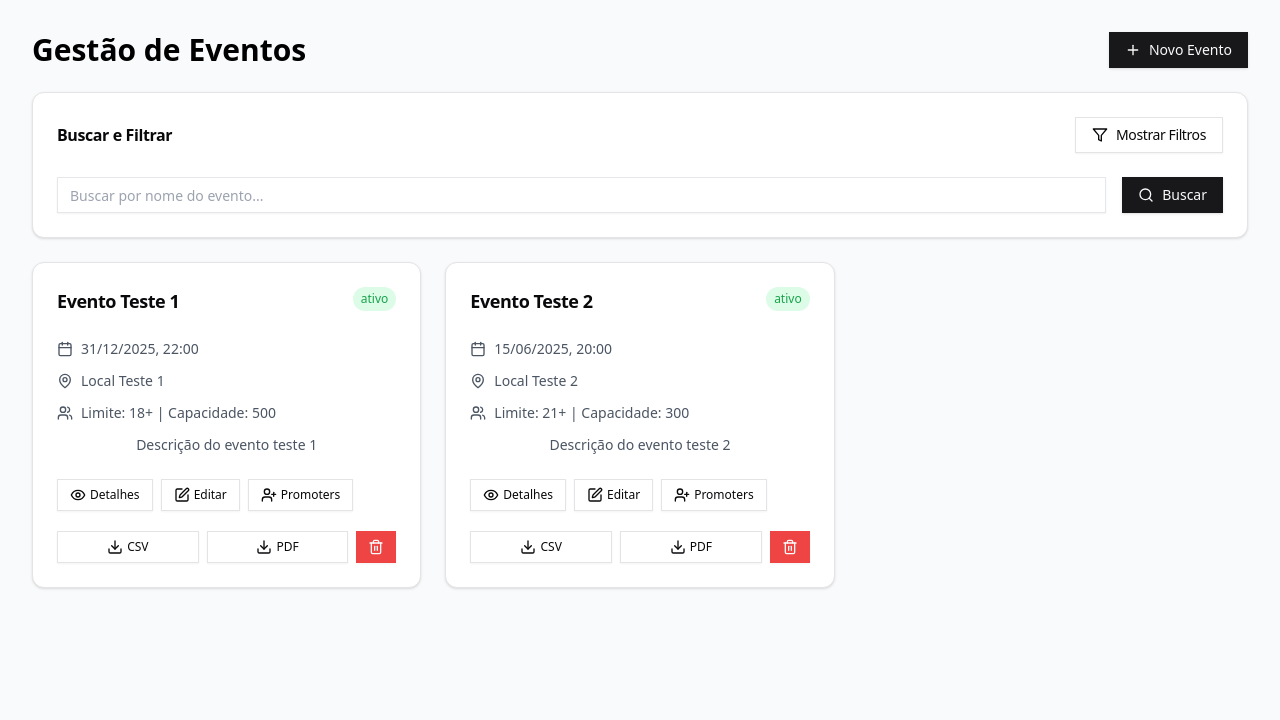
Test: EventosModule › permite filtrar eventos
Expected: the text "Evento Teste 1" is shown, [57,287,179,315]
What coordinates should you click on to do the following:
click the button "Mostrar Filtros"
I would click on:
 (1149, 135)
Its box is [1075,117,1223,153].
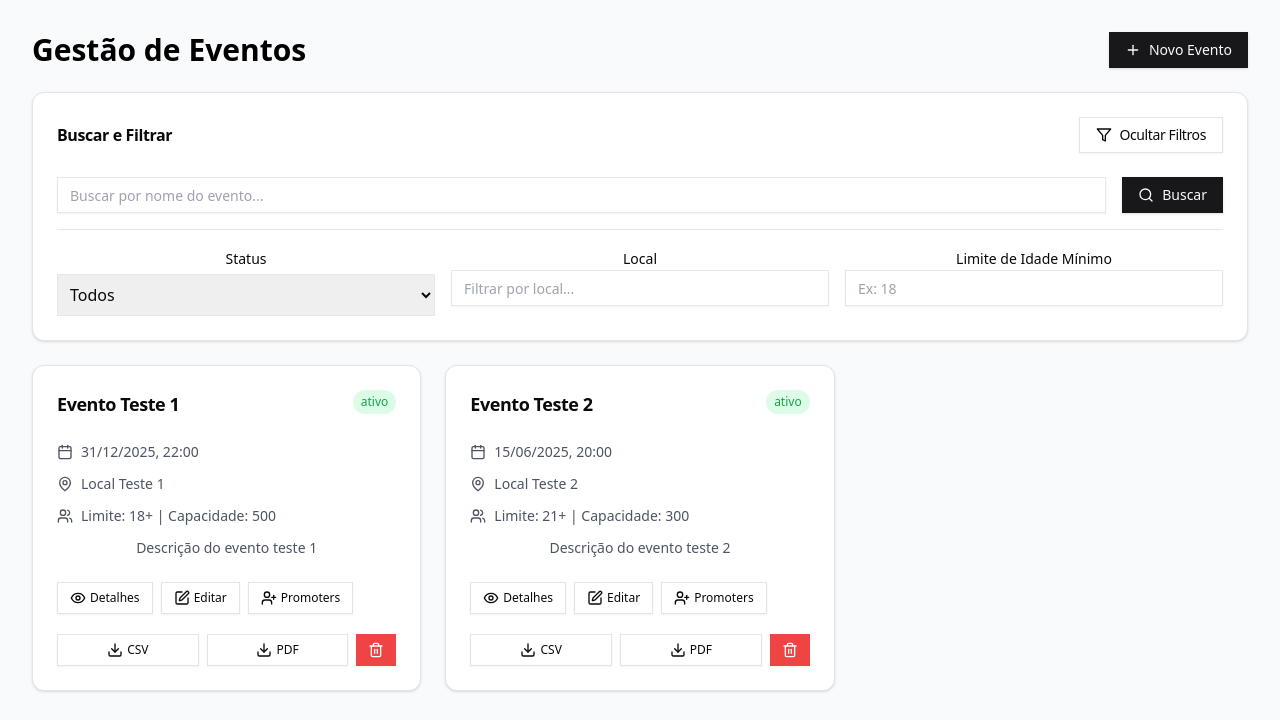
Expected: the dropdown labelled "Status" is shown, [57,274,435,316]
Expected: the field labelled "Local" is shown, [451,270,829,306]
Expected: the number field labelled "Limite de Idade Mínimo" is shown, [845,270,1223,306]
